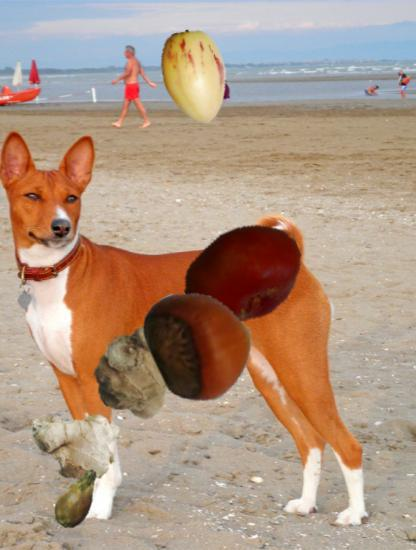Cactus: (46, 466, 111, 531)
Ginger: (90, 307, 208, 425), (26, 393, 121, 488)
Nectarine: (183, 214, 305, 336)
Nut: (143, 286, 258, 401)
Pepino: (147, 29, 244, 126)
